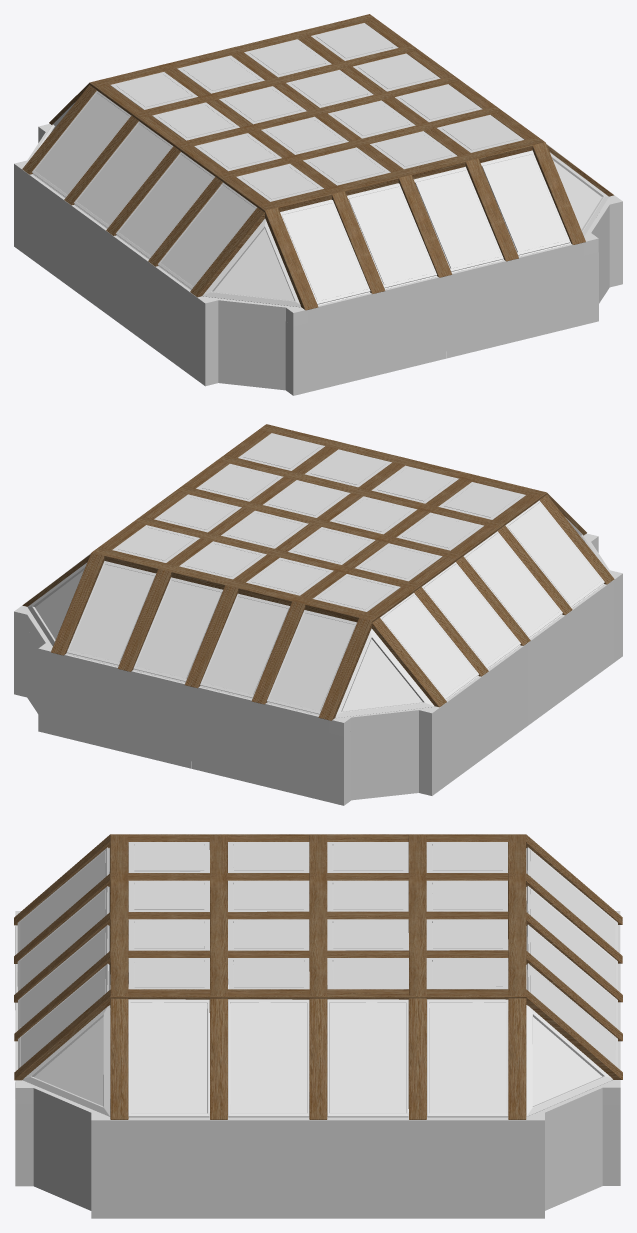
Rendered from room_with_windows_small.fbx.
The picture shows the model from 3 angles, top to bottom: view 1: azimuth 30°, elevation 25°; view 2: azimuth 150°, elevation 25°; view 3: azimuth 270°, elevation 25°; orthographic projection. The views are drawn at different scales.
Visible parts, largest first — view 1: walls, glas, glas.002, roof_structure2, roof_structure1, glas.001, windowframe2, Cube.040, window, window.004, Cube.041, Cube.037 (+2 smaller); view 2: walls, glas, glas.002, roof_structure2, roof_structure1, glas.001, windowframe2, Cube.038, window, window.004, Cube.039, Cube.023 (+1 smaller); view 3: walls, glas.001, glas, roof_structure2, roof_structure1, glas.002, windowframe2, window.004, Cube.023, Cube.037, window, Cube.036 (+1 smaller).
Boxes of the visible parts, bbox=[...] form: walls: bbox=[14, 123, 622, 395]; glas: bbox=[116, 25, 518, 199]; glas.002: bbox=[282, 154, 567, 301]; roof_structure2: bbox=[22, 14, 613, 297]; roof_structure1: bbox=[49, 14, 585, 310]; glas.001: bbox=[34, 93, 254, 286]; windowframe2: bbox=[110, 23, 524, 201]; Cube.040: bbox=[213, 228, 294, 300]; window: bbox=[280, 151, 570, 304]; window.004: bbox=[32, 91, 578, 289]; Cube.041: bbox=[202, 218, 300, 307]; Cube.037: bbox=[553, 160, 601, 229]; walls: bbox=[14, 533, 622, 805]; glas: bbox=[118, 435, 519, 609]; glas.002: bbox=[69, 564, 355, 711]; roof_structure2: bbox=[22, 424, 614, 707]; roof_structure1: bbox=[51, 424, 586, 720]; glas.001: bbox=[382, 503, 601, 696]; windowframe2: bbox=[112, 433, 525, 611]; Cube.038: bbox=[342, 639, 422, 711]; window: bbox=[66, 561, 356, 714]; window.004: bbox=[59, 500, 604, 699]; Cube.039: bbox=[335, 628, 434, 718]; Cube.023: bbox=[35, 570, 83, 639]; walls: bbox=[15, 911, 620, 1218]; glas.001: bbox=[130, 871, 506, 1113]; glas: bbox=[134, 843, 502, 987]; roof_structure2: bbox=[110, 835, 526, 1119]; roof_structure1: bbox=[14, 834, 622, 1080]; glas.002: bbox=[20, 850, 615, 1066]; windowframe2: bbox=[128, 842, 508, 989]; window.004: bbox=[128, 999, 508, 1117]; Cube.023: bbox=[532, 1017, 602, 1105]; Cube.037: bbox=[34, 1017, 103, 1106]; window: bbox=[17, 847, 617, 1068]; Cube.036: bbox=[22, 1005, 110, 1116].
Bounding box in the file's own units: 1268 × 444 × 1347.
